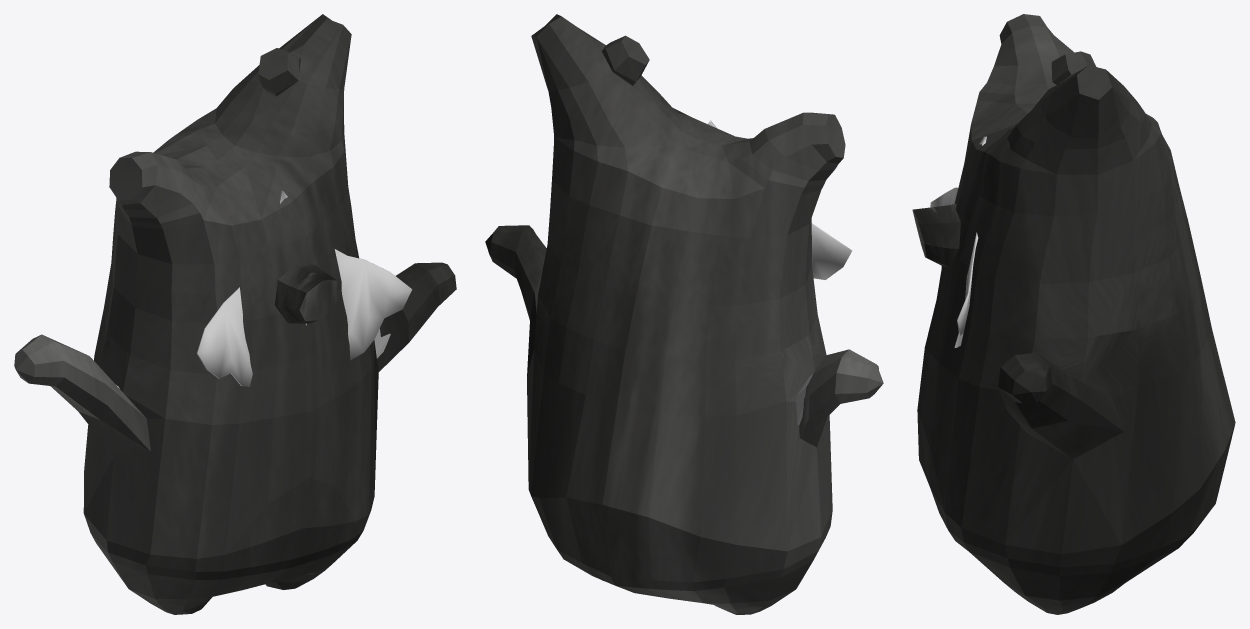
Rendered from frame_0059.obj.
The picture shows the model from 3 angles, left to right: view 1: azimuth 30°, elevation 25°; view 2: azimuth 150°, elevation 25°; view 3: azimuth 270°, elevation 25°; orthographic projection. The views are drawn at different scales.
Parts seen in each view (by area): view 1: korok, leaf, nose; view 2: korok, leaf; view 3: korok, nose, leaf.
Part boxes in pixels (<box>): korok: <box>14,14,456,614</box>; leaf: <box>196,190,412,386</box>; nose: <box>274,264,340,323</box>; korok: <box>485,14,883,614</box>; leaf: <box>708,120,852,279</box>; korok: <box>917,14,1235,614</box>; nose: <box>912,203,960,266</box>; leaf: <box>930,136,986,347</box>.
Size of the model in its own units: 1.83 by 2.32 by 1.18.
